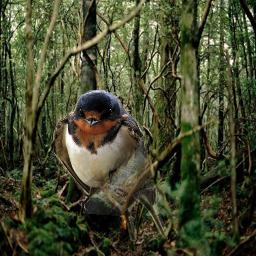Swallow: (53, 90, 168, 241)
